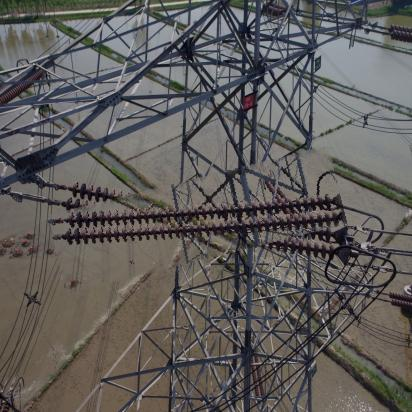insulator: (51, 164, 346, 278)
